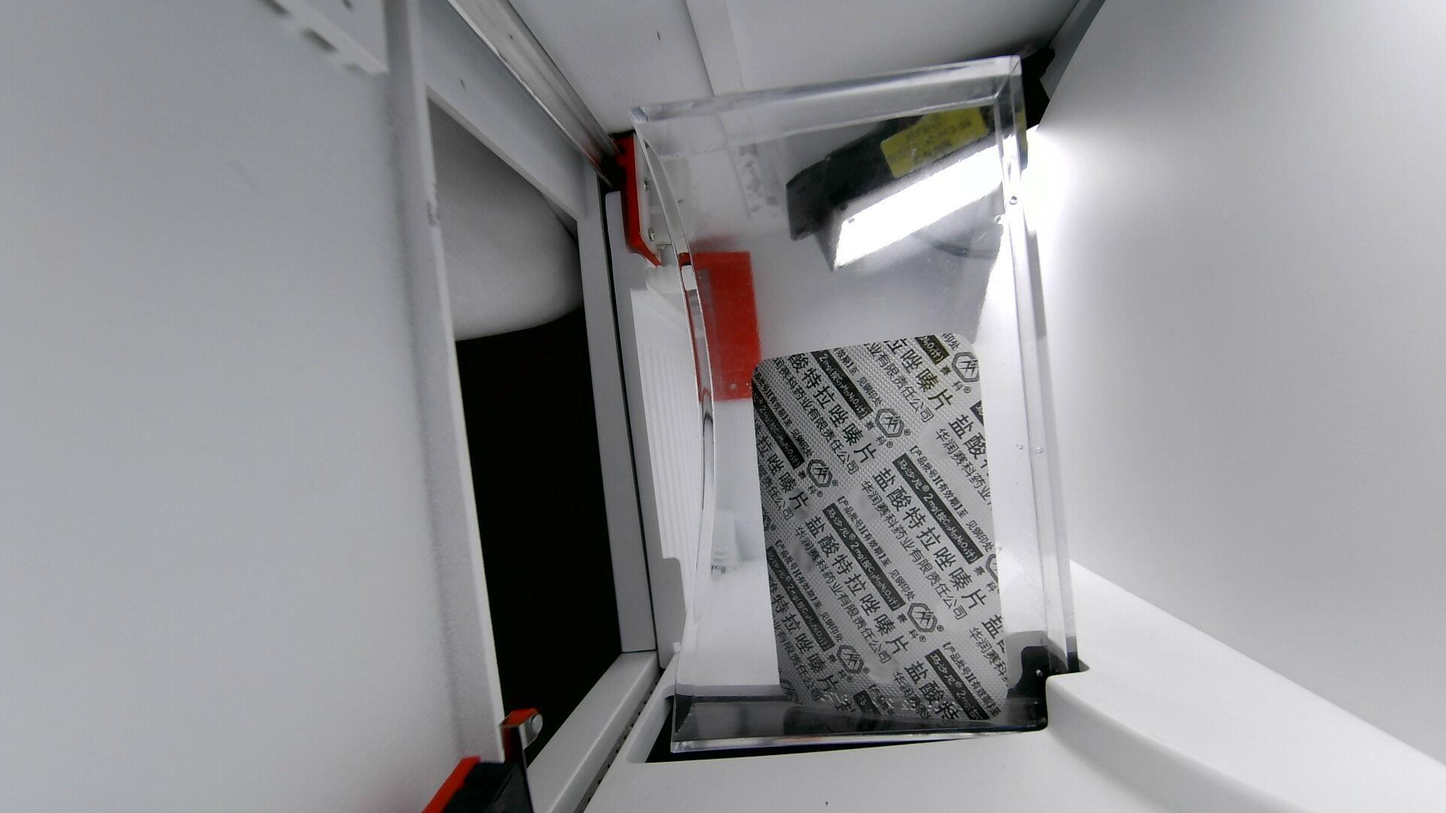Pill Back: (821, 364, 884, 419), (917, 414, 969, 463), (836, 428, 886, 477), (768, 481, 819, 525), (931, 586, 981, 630), (844, 532, 890, 577), (783, 595, 828, 641), (835, 487, 889, 525), (844, 590, 897, 628), (861, 642, 905, 687), (919, 477, 966, 519), (768, 428, 810, 470), (921, 537, 967, 575), (779, 532, 820, 573)
